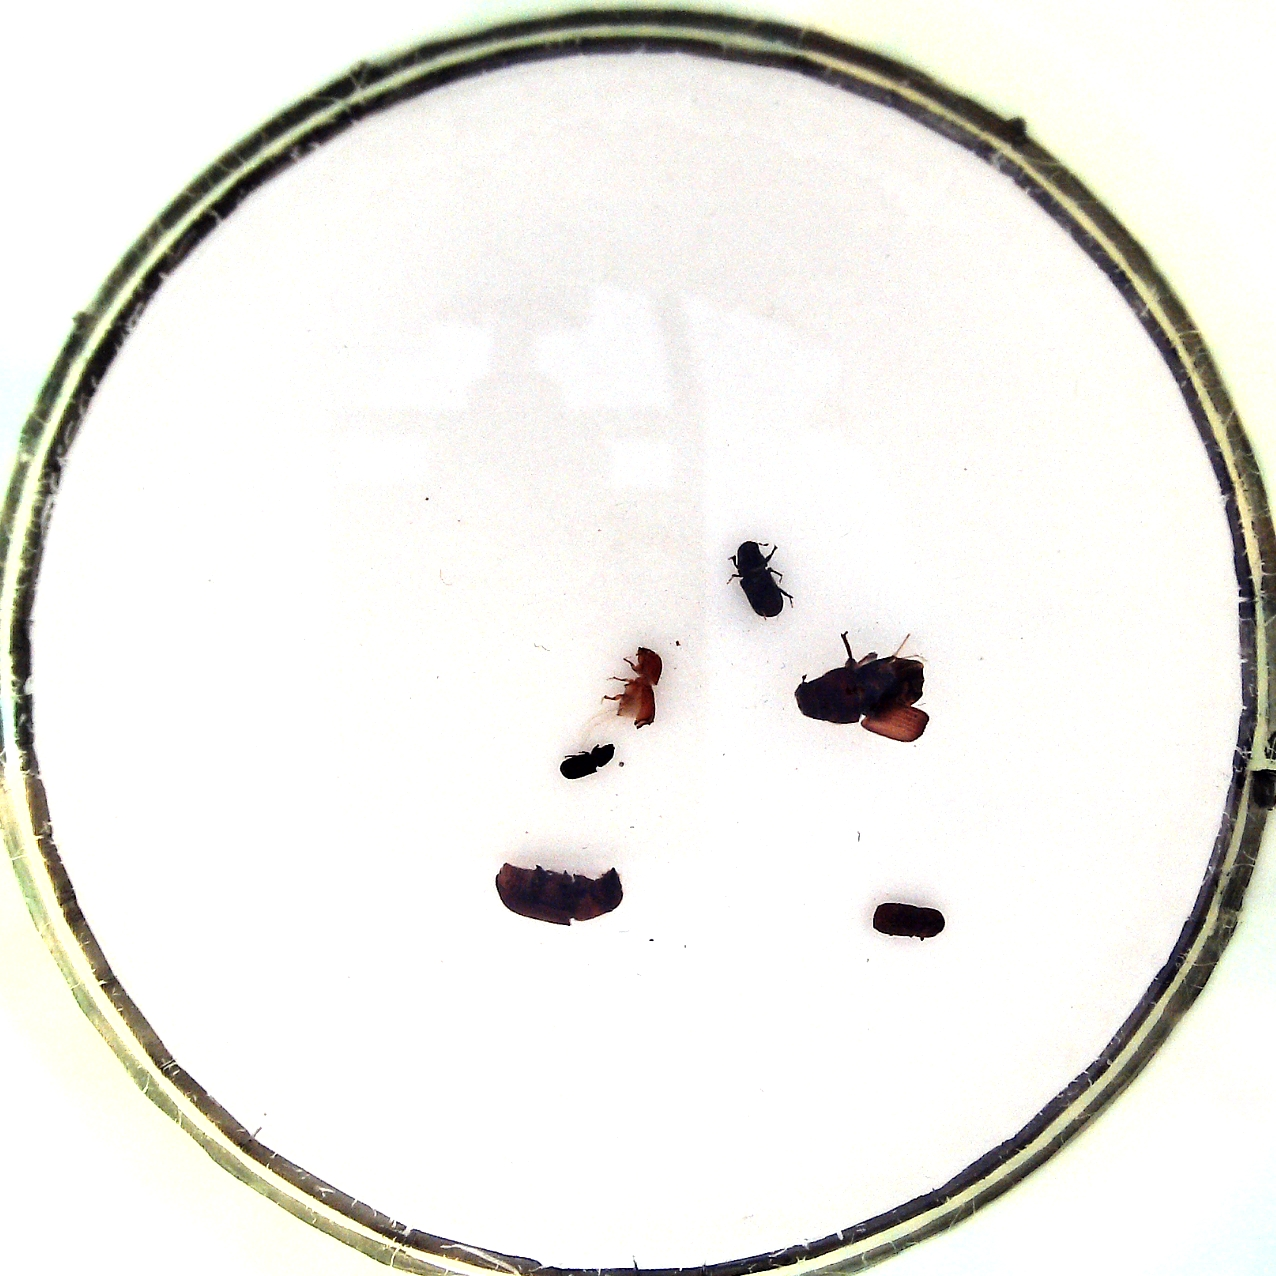Leconte: (795, 631, 932, 744), (490, 861, 626, 928)
Linnaeus: (867, 895, 946, 943)
acuminatus: (599, 643, 664, 731)
armandi: (733, 536, 793, 620)
coleoptera: (552, 738, 618, 782)
